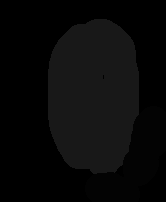fp: (48, 10, 140, 172)
